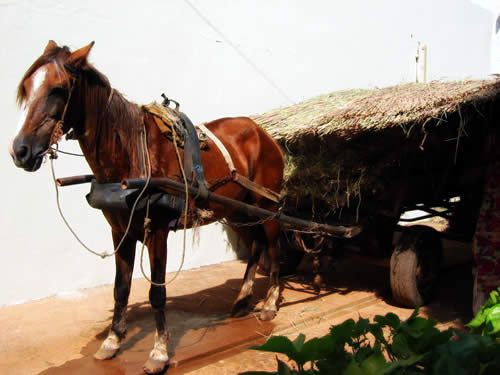horse: (11, 40, 287, 371)
